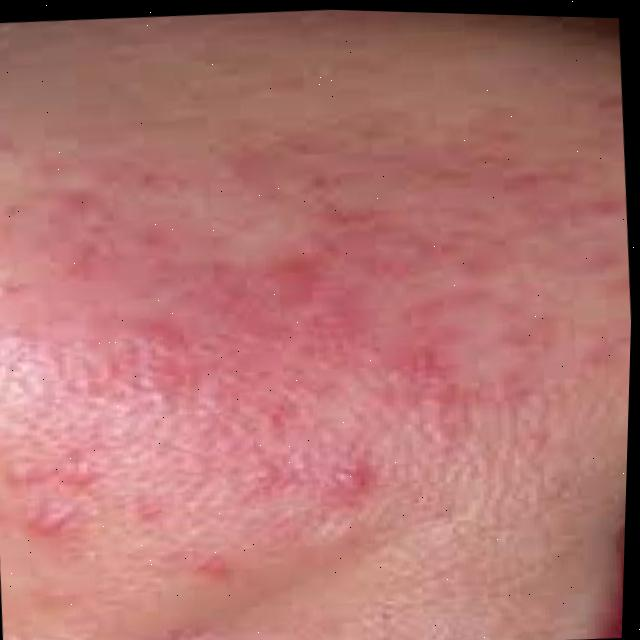Rosacea: (0, 73, 638, 554)
